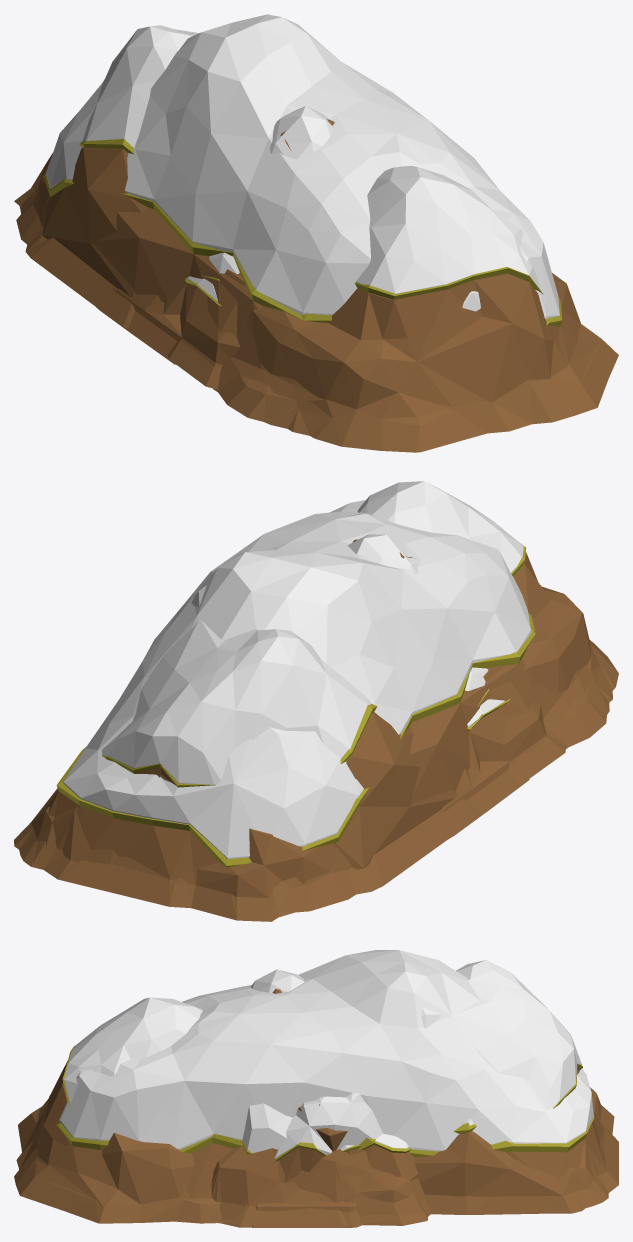
File: cego_terraforming.fbx
The picture shows the model from 3 angles, top to bottom: view 1: azimuth 30°, elevation 25°; view 2: azimuth 150°, elevation 25°; view 3: azimuth 270°, elevation 25°; orthographic projection. The views are drawn at different scales.
Visible parts, largest first — view 1: cego_mountain.snowcap.long2, cego_mountain.long1, cego_mountain.grasscap.long1, cego_mountain.long2, cego_mountain.snowcap.long1, cego_mountain.round2, cego_mountain.round1, cego_mountain.snowcap.round2, cego_mountain.round3, cego_mountain.grasscap.long2; view 2: cego_mountain.snowcap.long2, cego_mountain.snowcap.long1, cego_mountain.long2, cego_mountain.long1, cego_mountain.grasscap.long1, cego_mountain.grasscap.long2, cego_mountain.round2, cego_mountain.round1, cego_mountain.round3, cego_mountain.snowcap.round2; view 3: cego_mountain.snowcap.long2, cego_mountain.long1, cego_mountain.snowcap.long1, cego_mountain.long2, cego_mountain.grasscap.round3, cego_mountain.grasscap.long1, cego_mountain.snowcap.round2, cego_mountain.round3, cego_mountain.round2, cego_mountain.grasscap.long2, cego_mountain.snowcap.round1, cego_mountain.round1 (+1 smaller).
Boxes of the visible parts, x1,y1,x2,y2 form: cego_mountain.snowcap.long2: (46, 14, 559, 319); cego_mountain.long1: (14, 147, 618, 452); cego_mountain.grasscap.long1: (15, 139, 600, 452); cego_mountain.long2: (16, 186, 618, 446); cego_mountain.snowcap.long1: (82, 25, 540, 293); cego_mountain.round2: (168, 119, 334, 367); cego_mountain.round1: (96, 283, 186, 364); cego_mountain.snowcap.round2: (188, 106, 333, 301); cego_mountain.round3: (169, 269, 245, 389); cego_mountain.grasscap.long2: (44, 174, 562, 326); cego_mountain.snowcap.long2: (63, 500, 531, 859); cego_mountain.snowcap.long1: (101, 481, 523, 785); cego_mountain.long2: (19, 645, 617, 921); cego_mountain.long1: (14, 592, 618, 921); cego_mountain.grasscap.long1: (14, 543, 617, 921); cego_mountain.grasscap.long2: (56, 613, 535, 867); cego_mountain.round2: (352, 539, 547, 783); cego_mountain.round1: (439, 731, 529, 838); cego_mountain.round3: (483, 665, 565, 780); cego_mountain.snowcap.round2: (347, 534, 504, 726); cego_mountain.snowcap.long2: (59, 950, 593, 1151); cego_mountain.long1: (16, 1070, 618, 1223); cego_mountain.snowcap.long1: (64, 960, 581, 1125); cego_mountain.long2: (14, 1108, 618, 1223); cego_mountain.grasscap.round3: (211, 1146, 430, 1227); cego_mountain.grasscap.long1: (17, 1045, 617, 1223); cego_mountain.snowcap.round2: (250, 969, 408, 1158); cego_mountain.round3: (211, 1150, 429, 1225); cego_mountain.round2: (240, 989, 418, 1225); cego_mountain.grasscap.long2: (56, 1095, 594, 1157); cego_mountain.snowcap.round1: (242, 1103, 354, 1152); cego_mountain.round1: (252, 1149, 362, 1227).
Bounding box in the file's own units: 129 × 83.01 × 234.
Materials: 1 (1 with a texture image).
